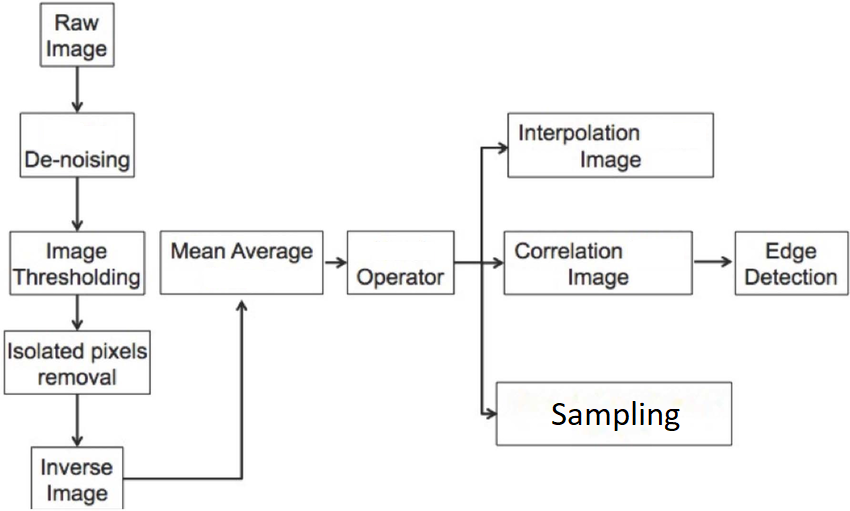arrow: (123, 298, 251, 482), (477, 270, 501, 421), (477, 140, 506, 257), (69, 394, 84, 447), (70, 175, 84, 229), (455, 255, 503, 269), (71, 63, 84, 114), (69, 290, 84, 329), (694, 255, 733, 269), (325, 255, 348, 269)
process: (492, 378, 737, 449), (504, 108, 718, 182), (499, 227, 697, 298), (156, 227, 327, 297), (1, 328, 153, 398), (6, 228, 150, 300), (17, 109, 137, 181), (731, 228, 849, 300), (344, 227, 458, 299), (26, 444, 127, 511), (37, 1, 117, 71)
text: (515, 121, 646, 172), (11, 240, 142, 291), (4, 341, 149, 385), (513, 239, 634, 288), (741, 240, 840, 288), (551, 399, 683, 430), (168, 238, 314, 266), (38, 454, 113, 505), (46, 10, 108, 62), (23, 147, 134, 172), (356, 264, 445, 292)
